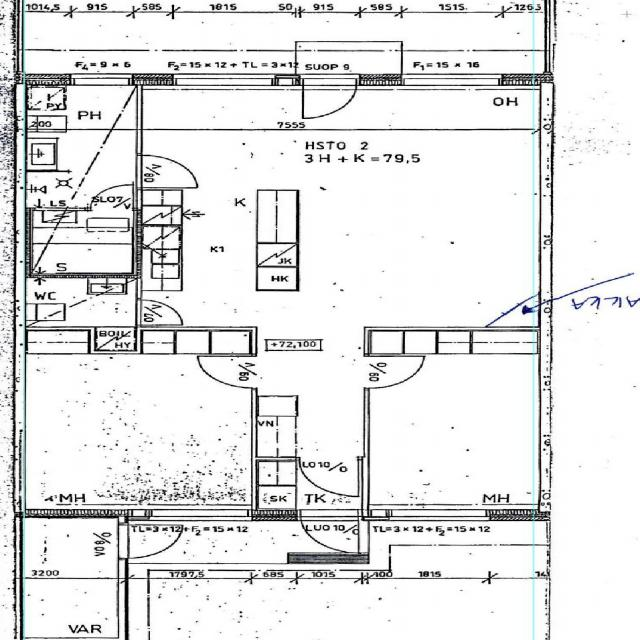door: (300, 510, 358, 555), (303, 74, 357, 117), (299, 457, 358, 495), (118, 524, 183, 557), (136, 155, 197, 187), (363, 356, 422, 388), (198, 356, 256, 388), (90, 182, 132, 211), (136, 300, 184, 324)
